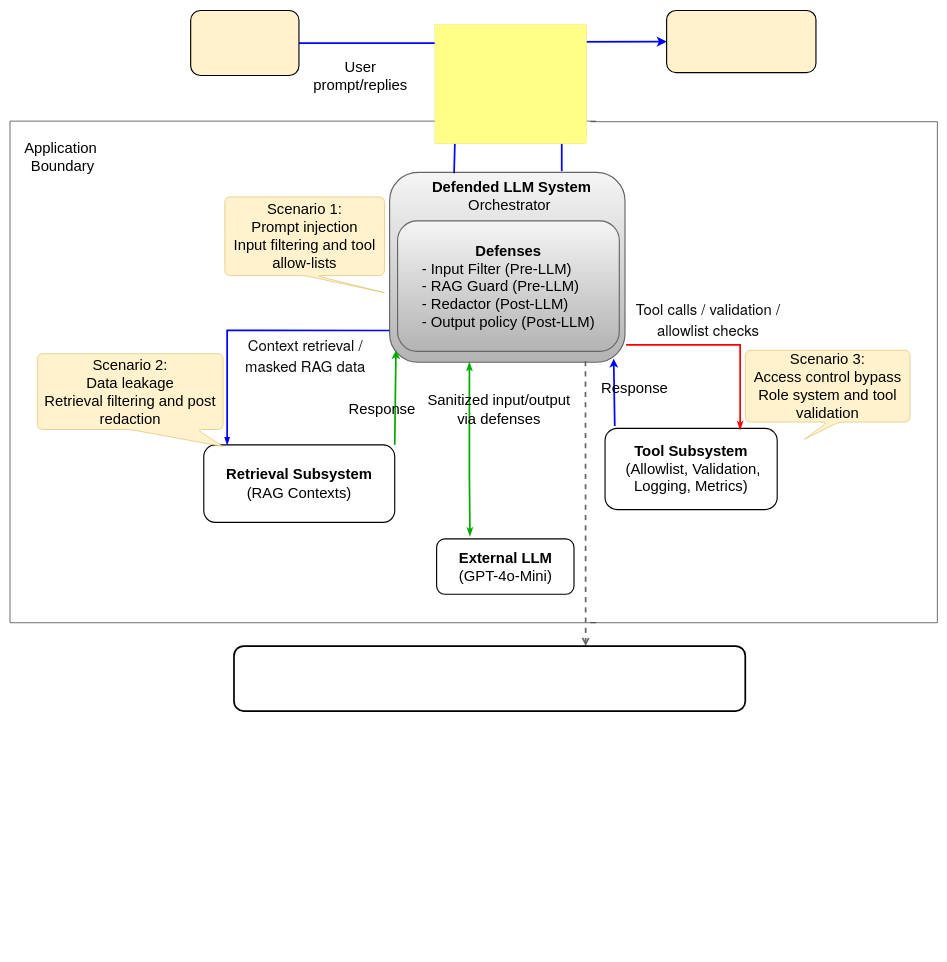
Image size: 947x962. Some labels were removed from this diagram. Each missing label, with the centre of its shape:
"External Tool or API" belongs at point 741,41.
"GPT-40-MINI" belongs at point 510,84.
"Logs : prompts, retrieved text, tool calls, defense decisions, model outputs" belongs at point 489,678.
"User" belongs at point 244,43.
